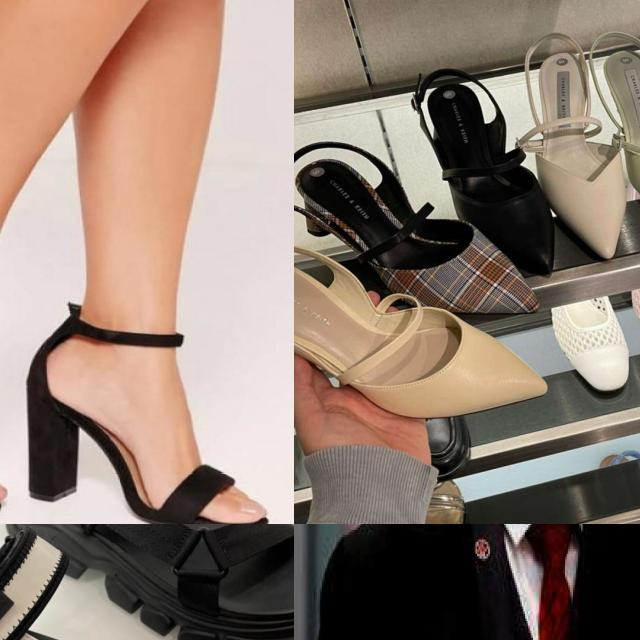Sandals: (294, 124, 568, 333), (24, 291, 269, 524), (294, 227, 548, 431), (395, 46, 569, 293), (501, 10, 640, 280), (0, 524, 294, 640), (583, 23, 640, 267)
person: (307, 524, 640, 640)
